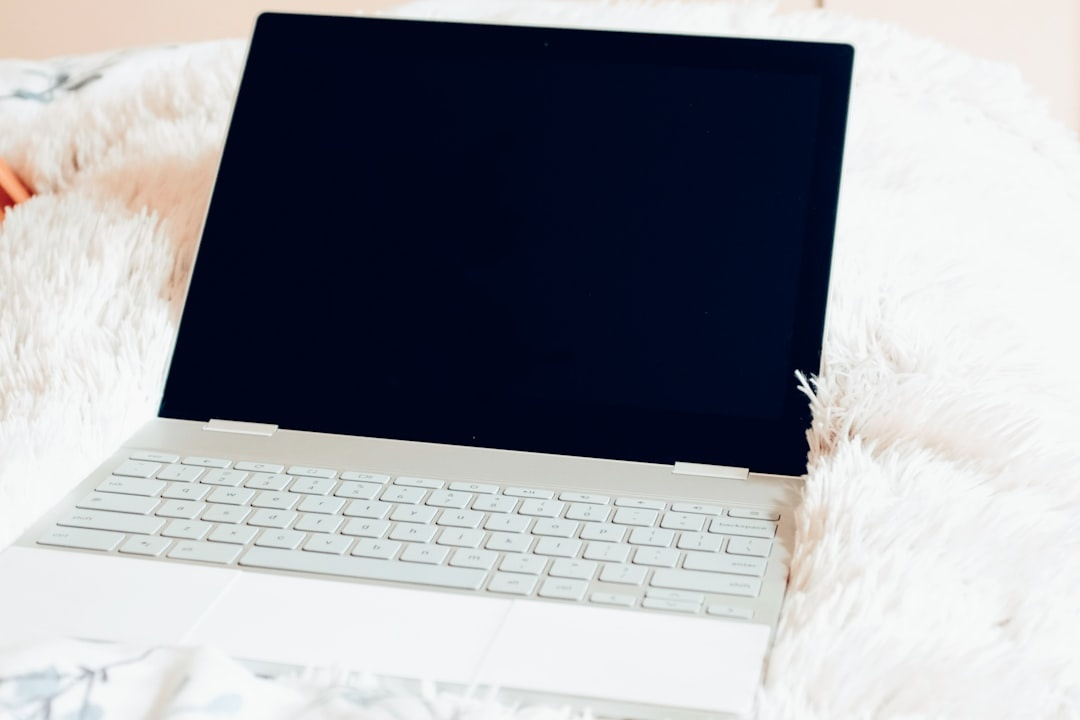laptop: (6, 9, 915, 720)
